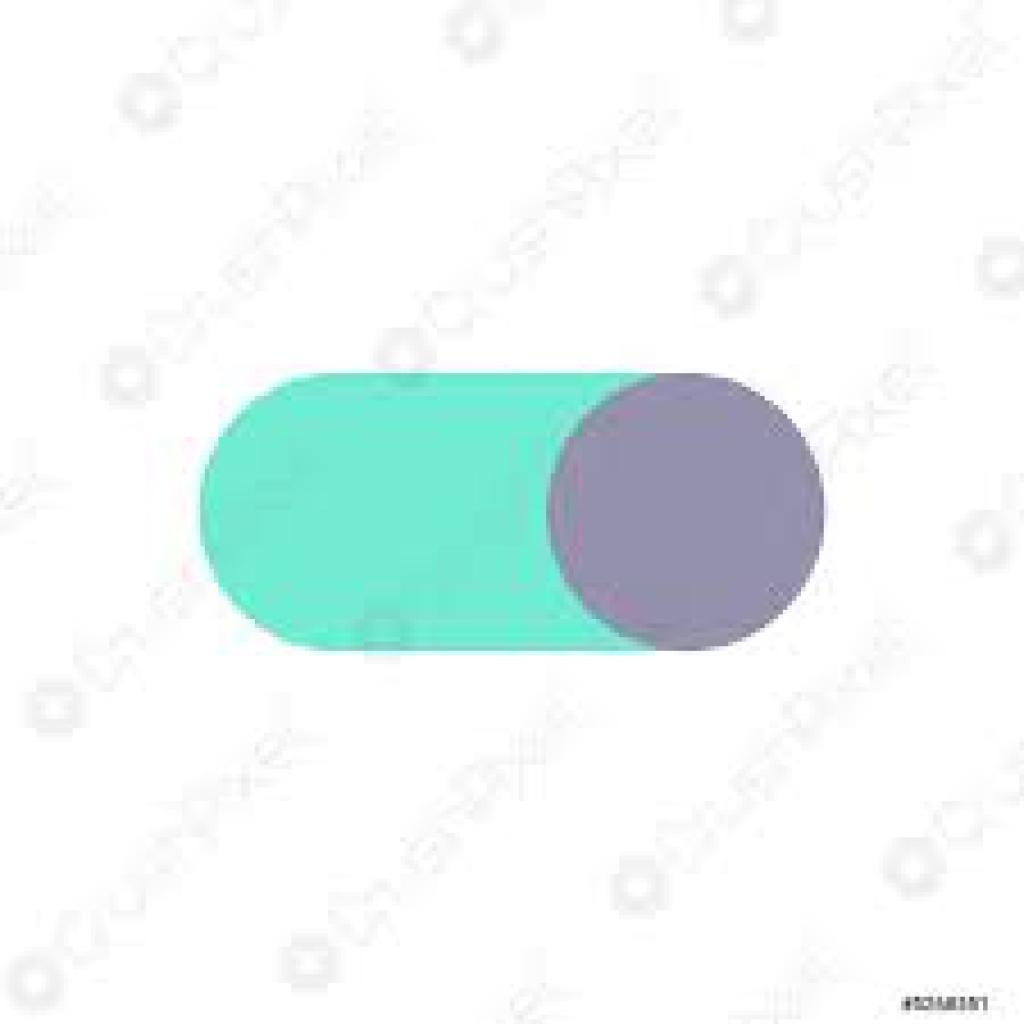switch: (187, 363, 838, 659)
